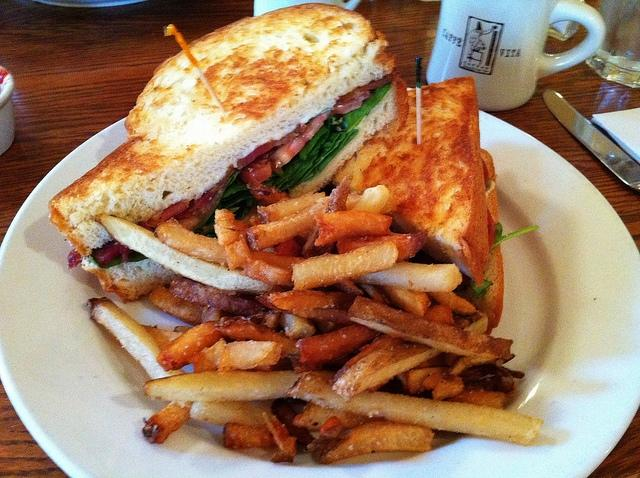lettuce: (490, 222, 540, 253), (313, 132, 345, 163), (469, 278, 494, 300)
